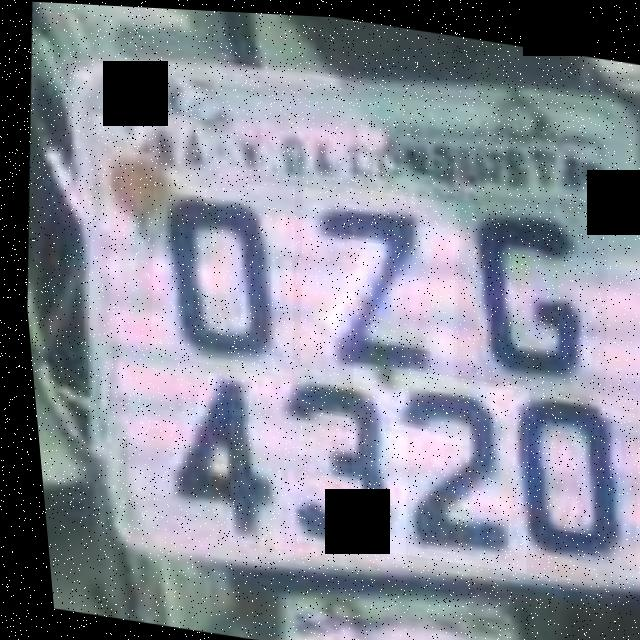0: (458, 368, 640, 583)
2: (327, 357, 535, 569)
3: (206, 346, 415, 564)
4: (95, 330, 305, 568)
G: (432, 193, 617, 399)
O: (131, 161, 304, 374)
Z: (280, 176, 469, 385)
